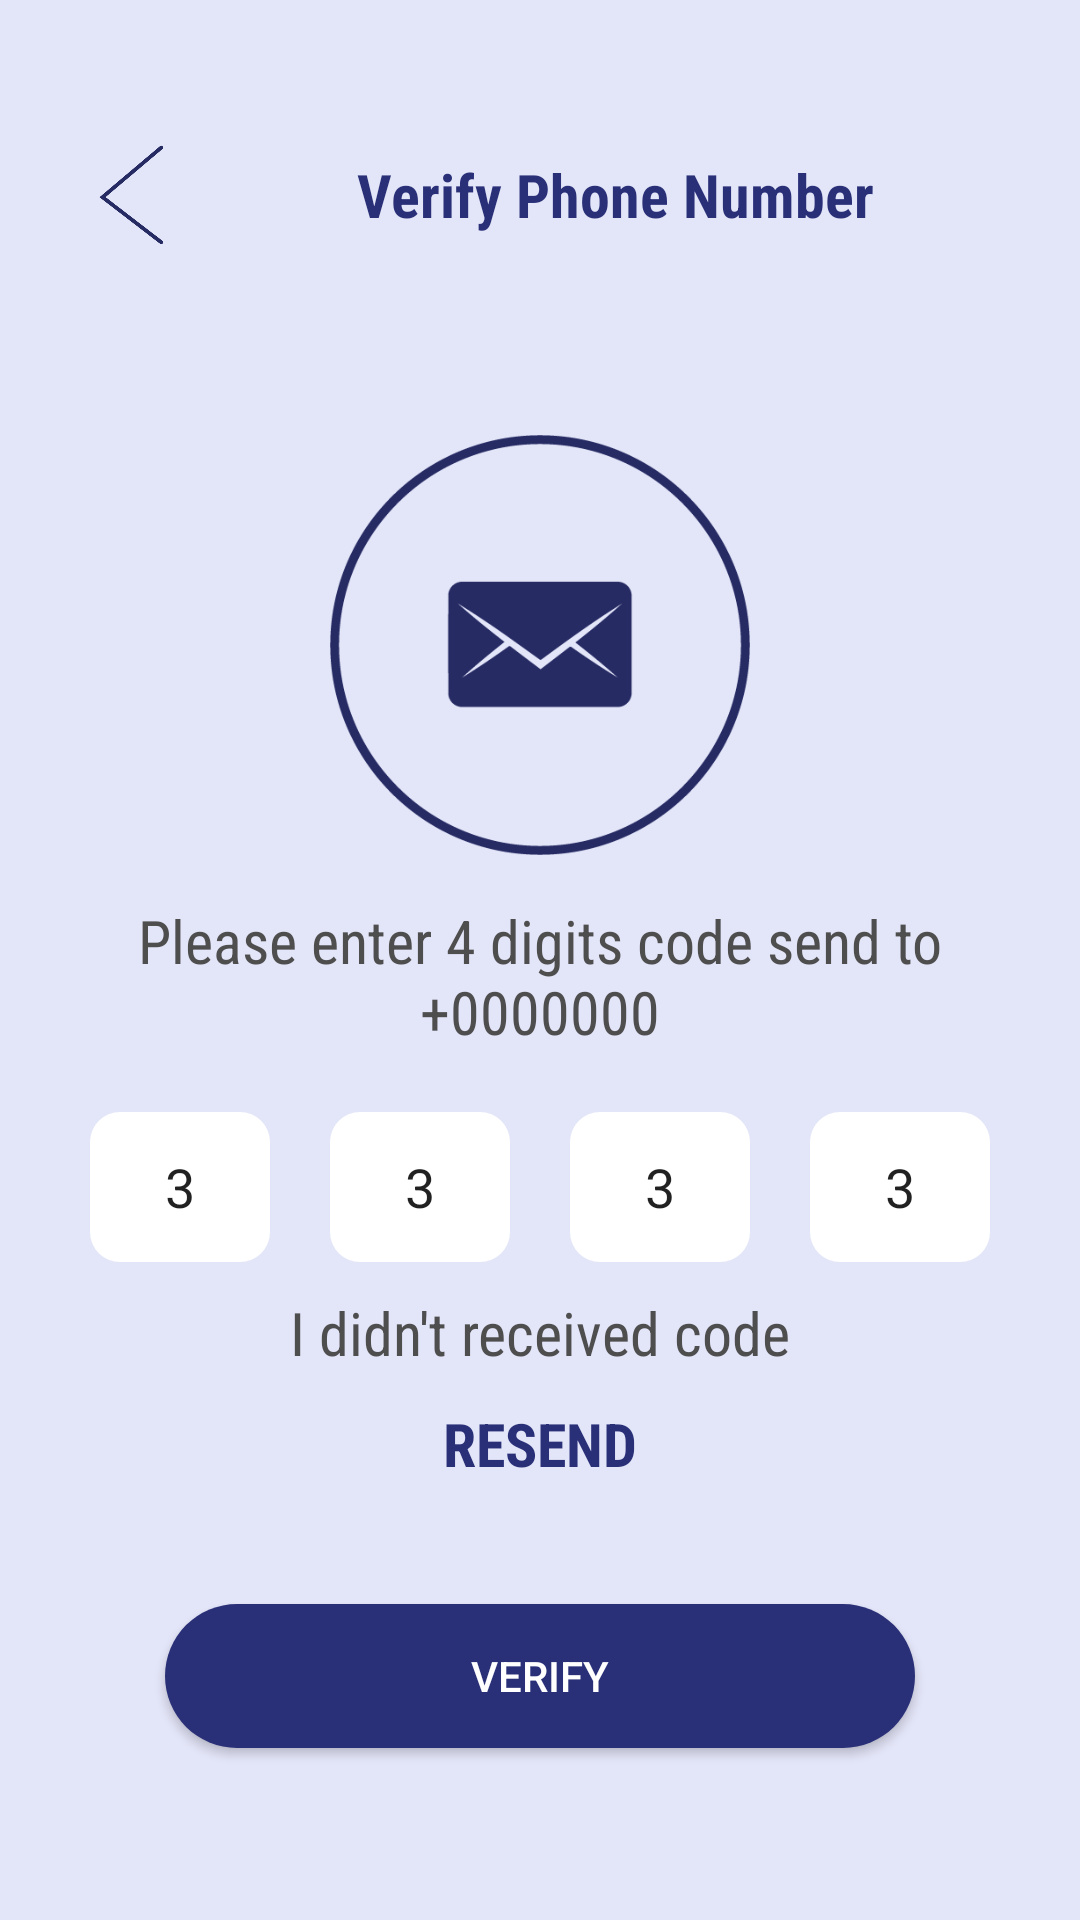

Icon bounding boxes for this 1080 × 1920 phone screenshot, format (x1, y1, x2, y2):
back: (100, 146, 163, 244)
